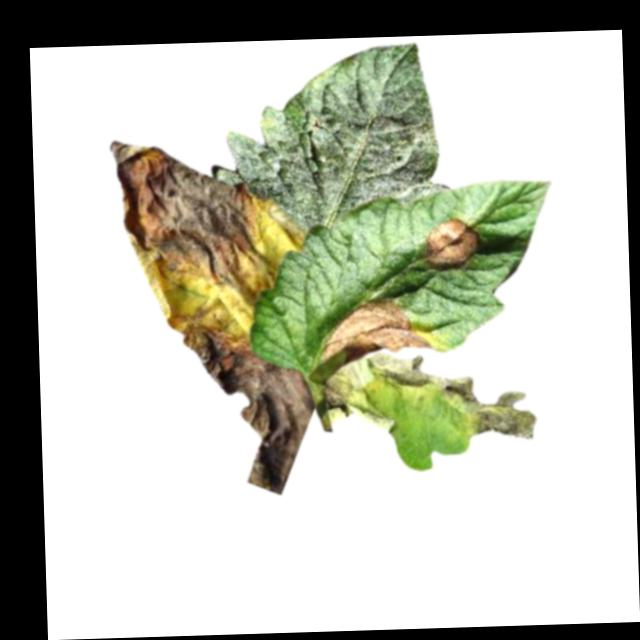Late_blight: (100, 134, 274, 294), (173, 321, 319, 498), (320, 348, 538, 448), (309, 295, 432, 362), (418, 217, 480, 273)
healthy: (213, 40, 452, 232)
